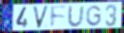3: (104, 3, 118, 28)
4: (15, 6, 30, 30)
F: (50, 5, 68, 29)
G: (85, 5, 103, 27)
U: (67, 5, 85, 28)
V: (32, 5, 50, 30)
